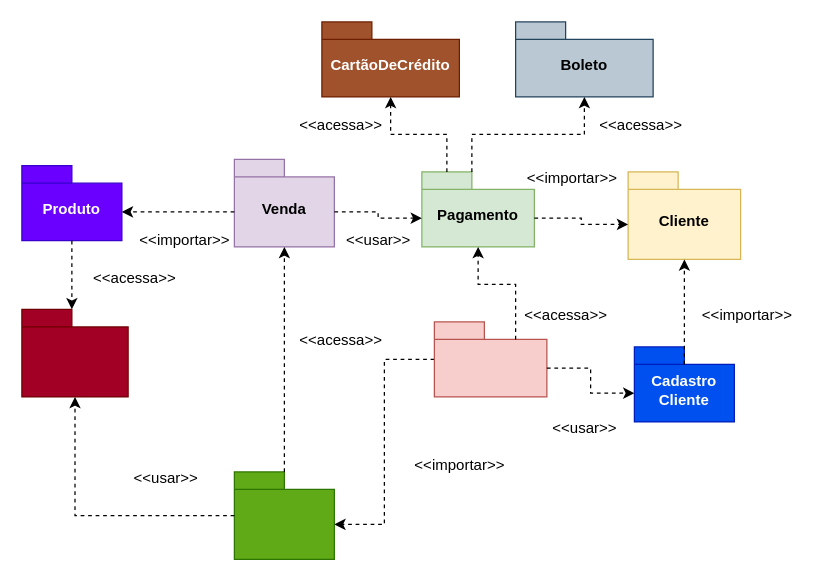
This 831x581 diagram has some shape labels left out. Each missing label, with the centre of its shape:
"Atendente" goes at (x=490, y=359).
"Relatório" goes at (x=283, y=515).
"Repor Estoque" goes at (x=74, y=352).
